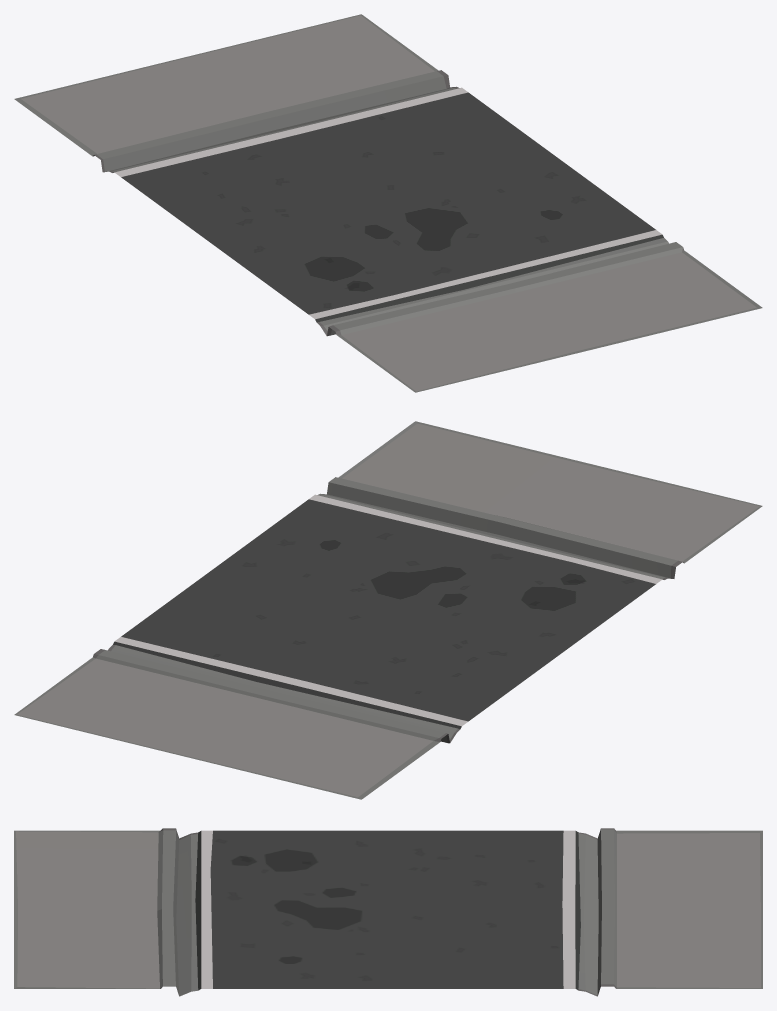
Rendered from SM_Env_Drive_Thru_Straight_02.obj.
3 renders of one model, top to bottom at view 1: azimuth 30°, elevation 25°; view 2: azimuth 150°, elevation 25°; view 3: azimuth 270°, elevation 25°, orthographic. The views are drawn at different scales.
Parts seen in each view (by area): view 1: SM_Env_Drive_Thru_Straight_02_0; view 2: SM_Env_Drive_Thru_Straight_02_0; view 3: SM_Env_Drive_Thru_Straight_02_0.
Boxes of the visible parts, <box> form: SM_Env_Drive_Thru_Straight_02_0: <box>14,14,762,392</box>; SM_Env_Drive_Thru_Straight_02_0: <box>14,421,762,799</box>; SM_Env_Drive_Thru_Straight_02_0: <box>14,828,762,996</box>.
Bounding box in the file's own units: 5 × 0.1597 × 10.
Materials: 1 (1 with a texture image).
